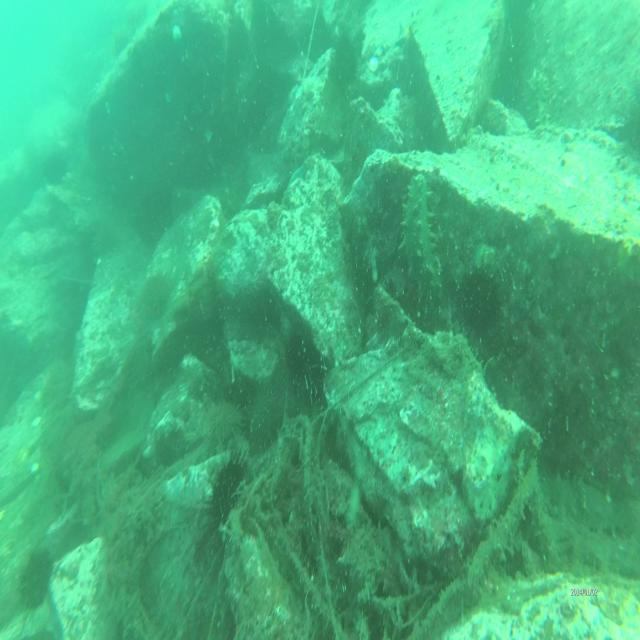echinus: (198, 450, 252, 533), (460, 256, 505, 334), (17, 547, 57, 606), (136, 262, 174, 322), (197, 399, 244, 446), (620, 81, 640, 163), (249, 392, 278, 448), (286, 322, 315, 377), (252, 282, 276, 344)
holothurian: (398, 172, 444, 308)
starfish: (393, 18, 412, 49), (361, 53, 382, 79)
